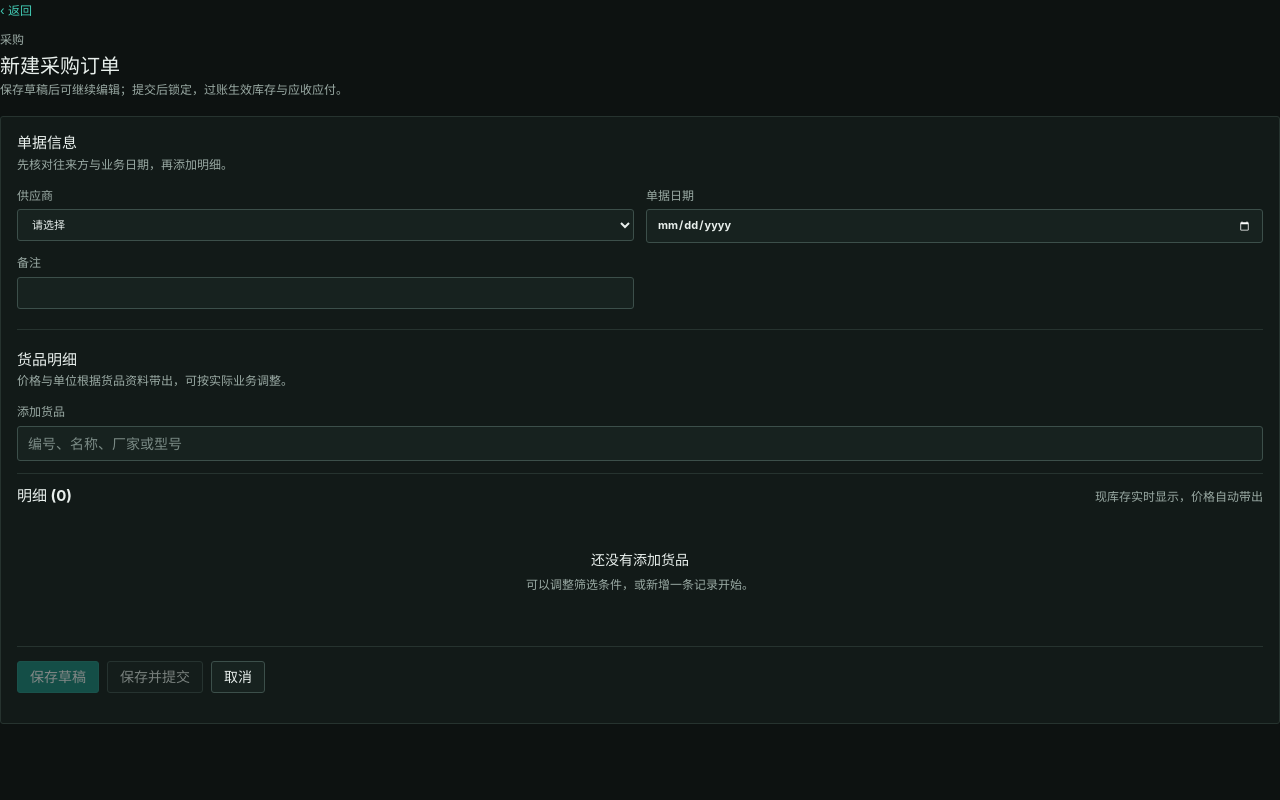
Test case: 单据保存与提交失败重试 › 新建后提交失败，重试更新已保存草稿而不再创建
Select "测试供应商" in the dropdown labelled "供应商" at (326, 226), box x1=17 y1=210 x2=634 y2=242
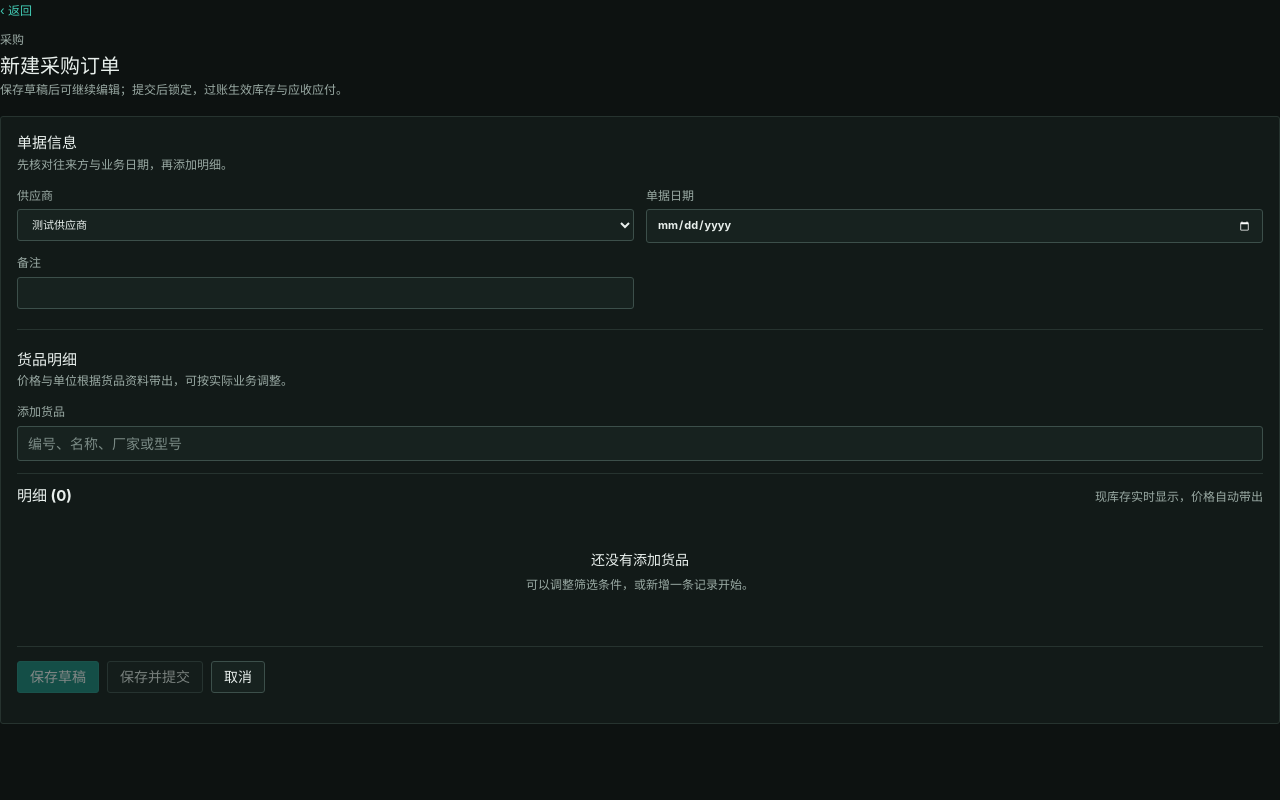
Type "测试" into the field with placeholder "编号、名称、厂家或型号" at (640, 444), box x1=17 y1=426 x2=1263 y2=461
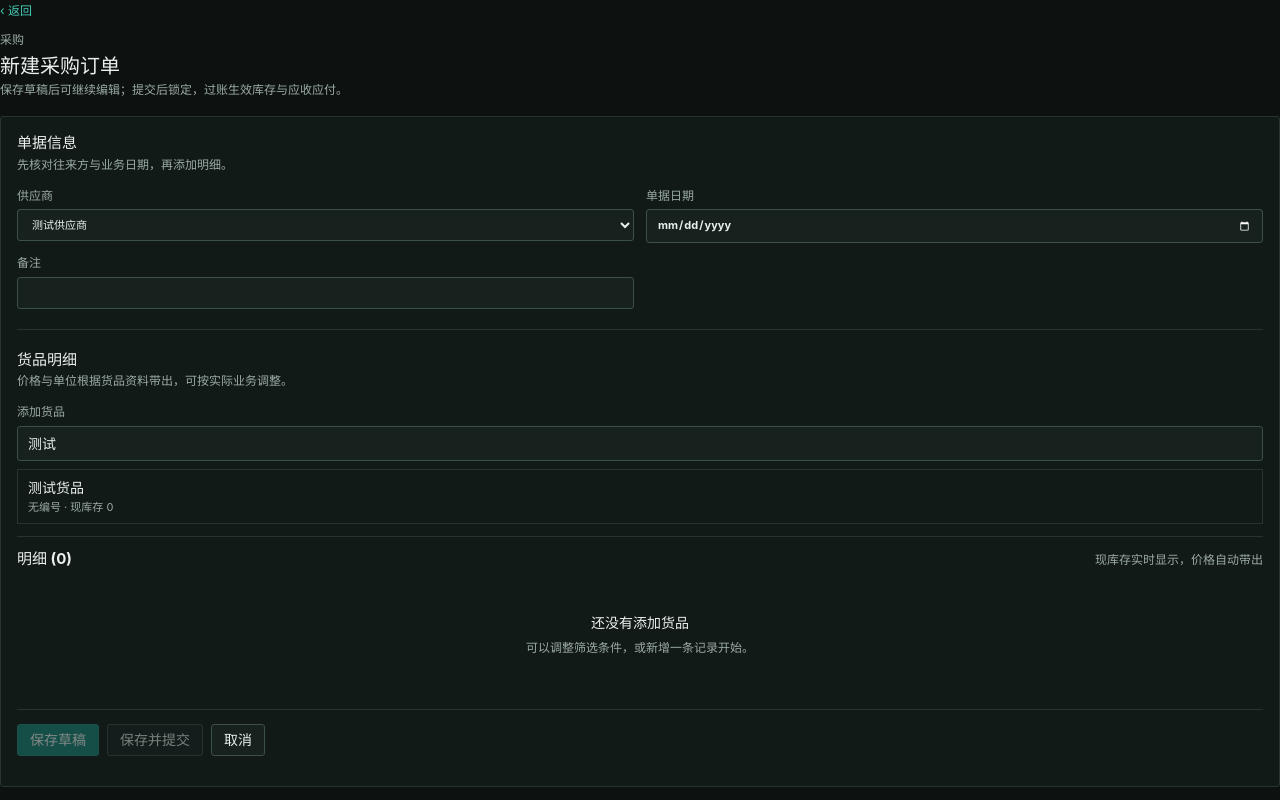
Click the button "测试货品 无编号 · 现库存 0" at (56, 488), box x1=18 y1=470 x2=1262 y2=523
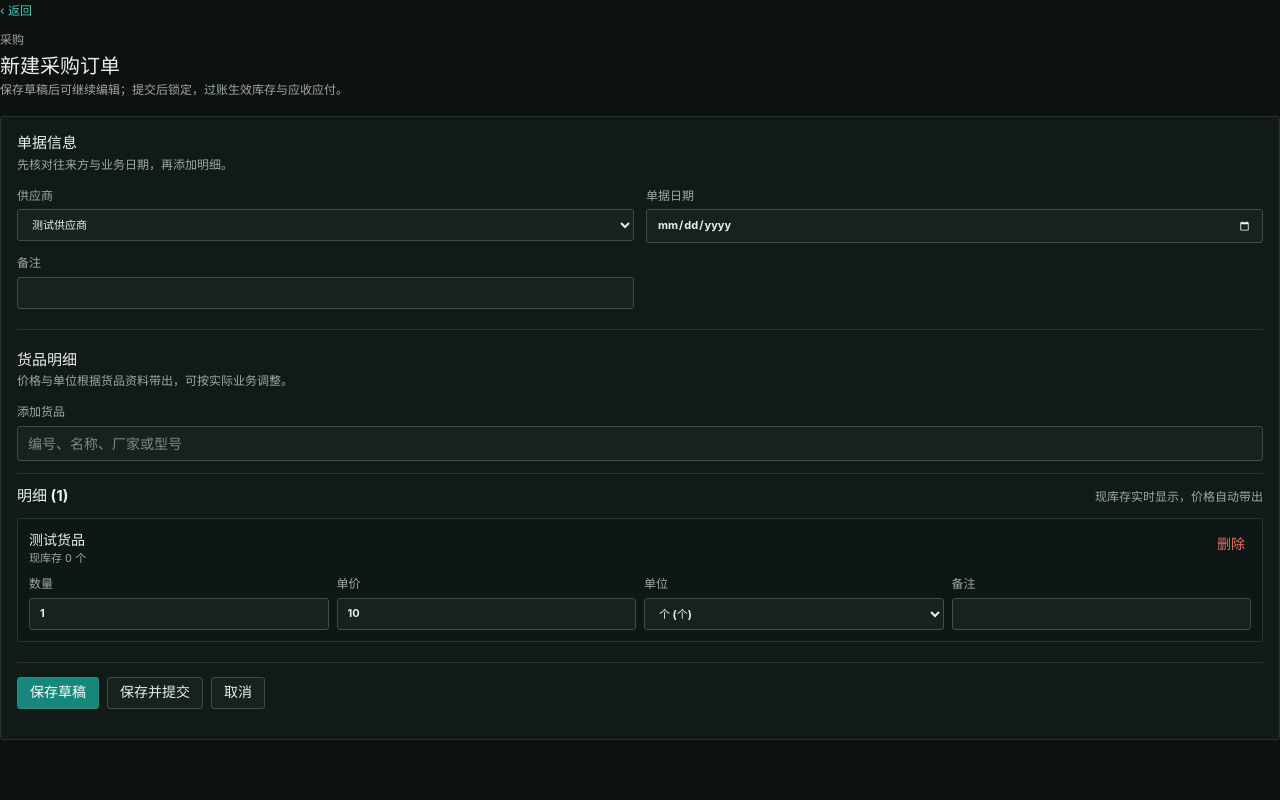
Click the button "保存并提交" at (155, 693), box x1=107 y1=677 x2=203 y2=709
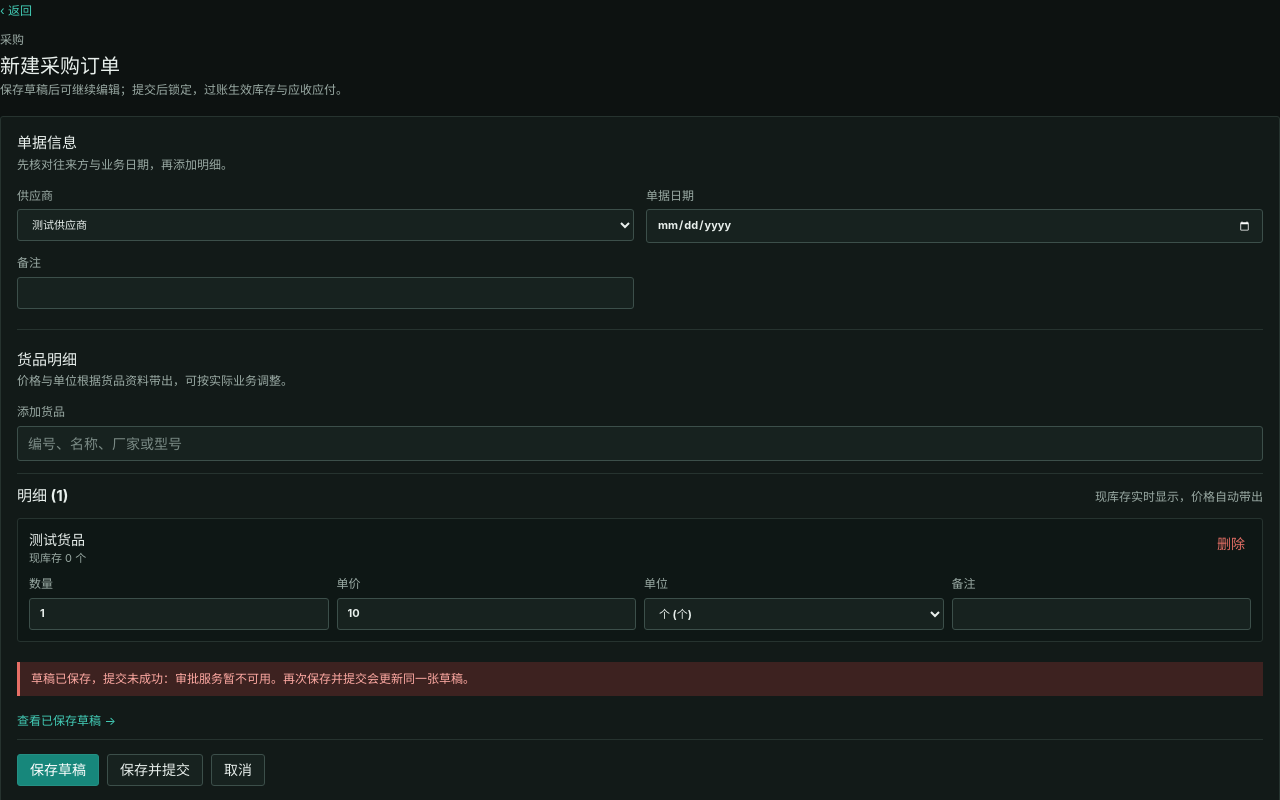
Expected: the message "草稿已保存，提交未成功：审批服务暂不可用。再次保存并提交会更新同一张草稿。" is shown, x1=17 y1=662 x2=1263 y2=696
Expected: the message shows "草稿已保存，提交未成功", x1=31 y1=671 x2=475 y2=686
Type "重试前调整说明" into the field labelled "备注" below "供应商" at (326, 293), box x1=17 y1=277 x2=634 y2=309
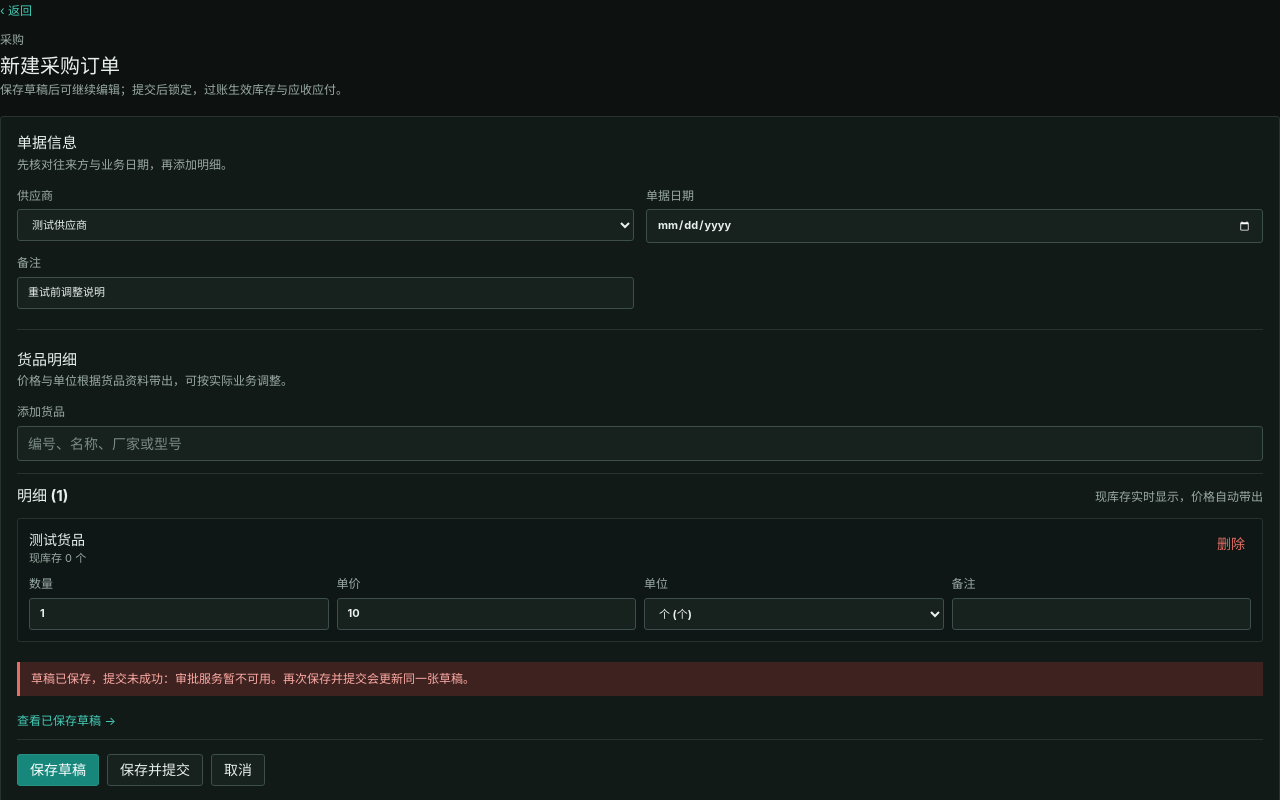
Click the button "保存并提交" at (155, 770), box x1=107 y1=754 x2=203 y2=786
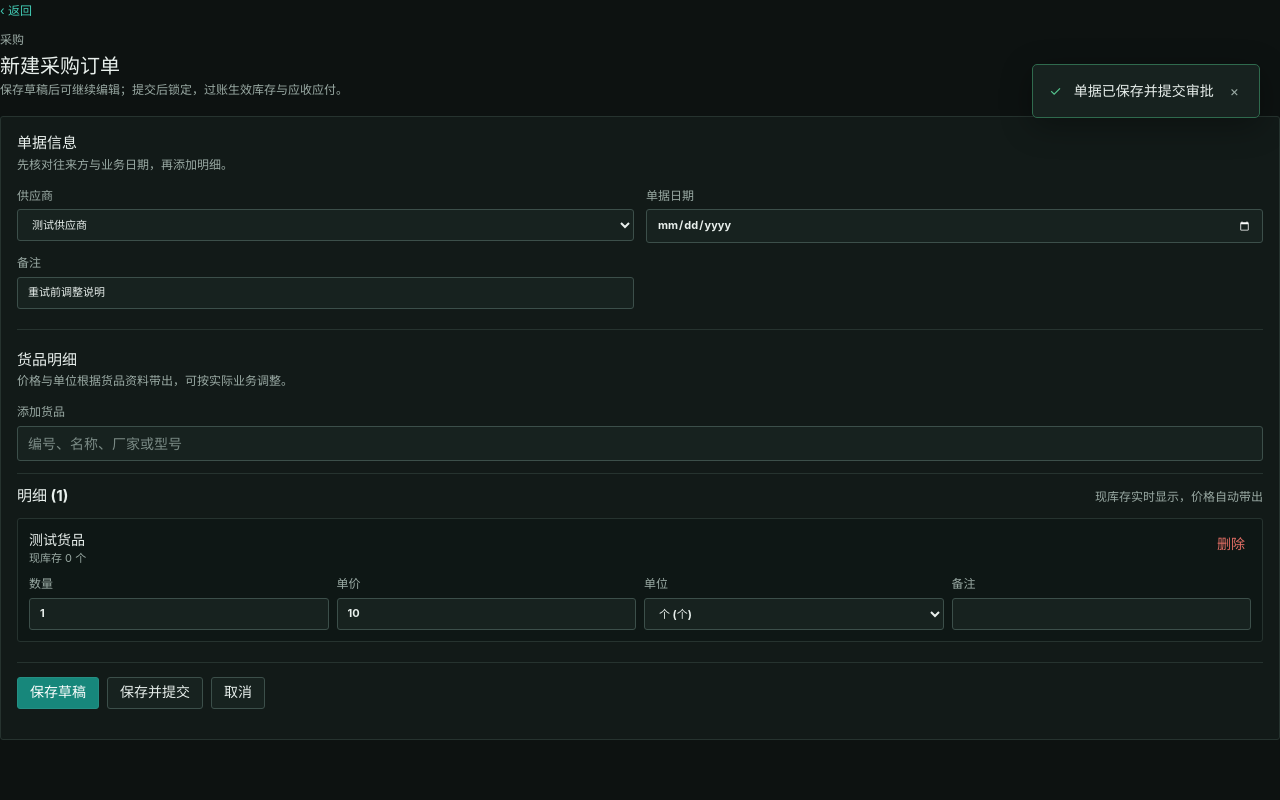
Expected: the message shows "单据已保存并提交审批", x1=1074 y1=82 x2=1214 y2=99
